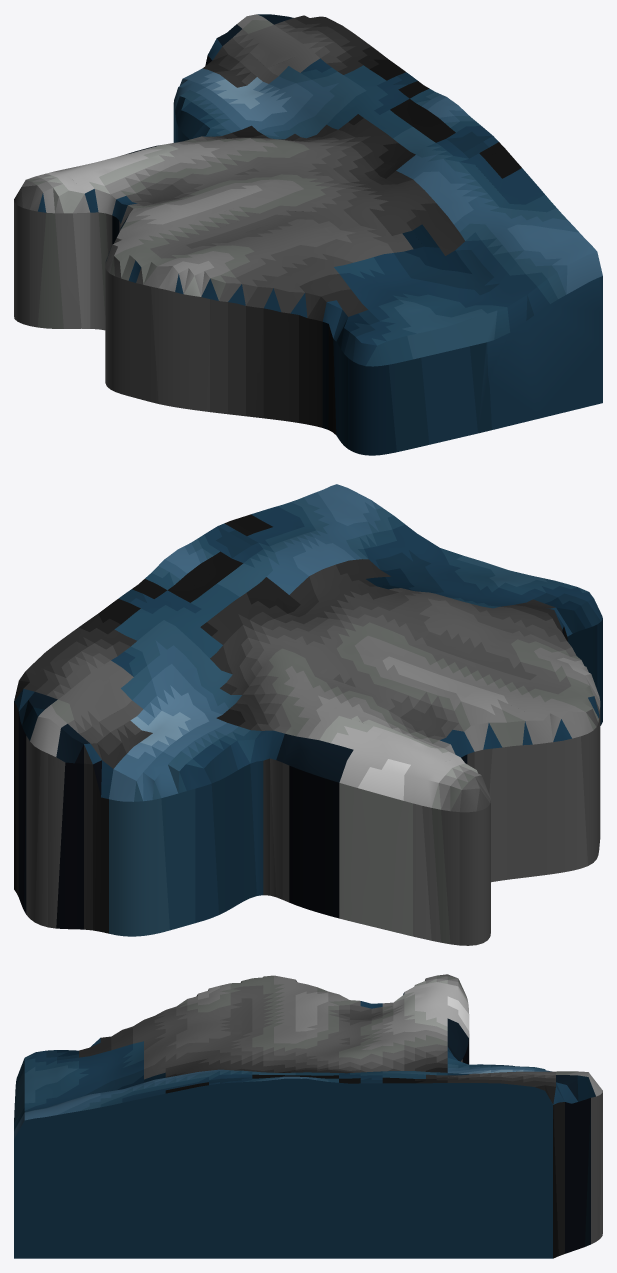
File: gryphon_neck_91.glb
The picture shows the model from 3 angles, top to bottom: view 1: azimuth 30°, elevation 25°; view 2: azimuth 150°, elevation 25°; view 3: azimuth 270°, elevation 25°; orthographic projection. The views are drawn at different scales.
Visible parts, largest first — view 1: gryphon_neck_91_gneck; view 2: gryphon_neck_91_gneck; view 3: gryphon_neck_91_gneck.
Boxes of the visible parts, x1,y1,x2,y2 form: gryphon_neck_91_gneck: (14, 14, 602, 455); gryphon_neck_91_gneck: (14, 484, 602, 945); gryphon_neck_91_gneck: (14, 974, 602, 1258).
Bounding box in the file's own units: 17.76 × 9.16 × 27.16.
